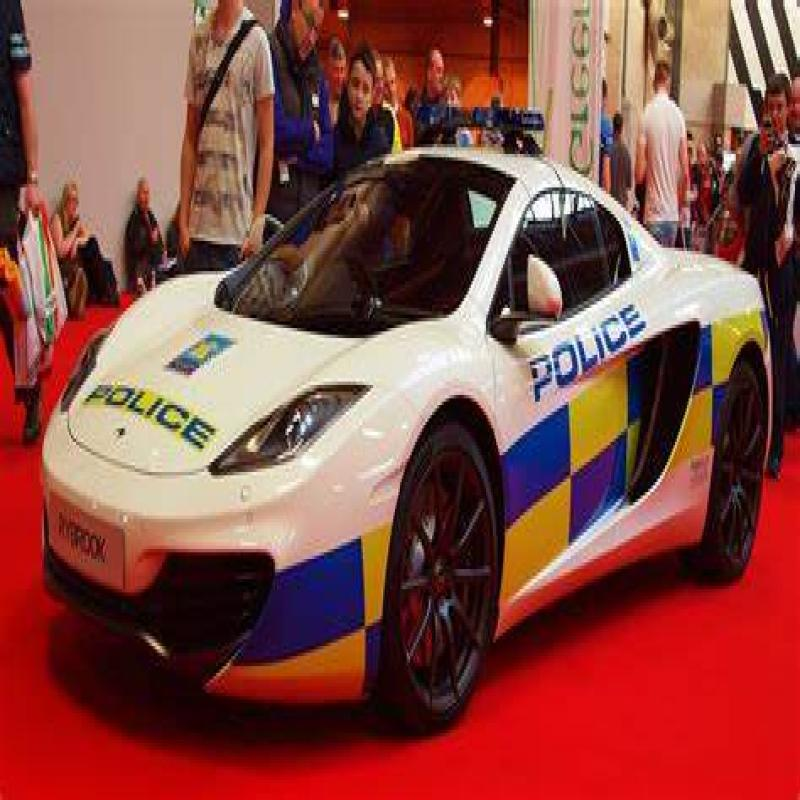AmbulanceSiren: (414, 80, 555, 158)
